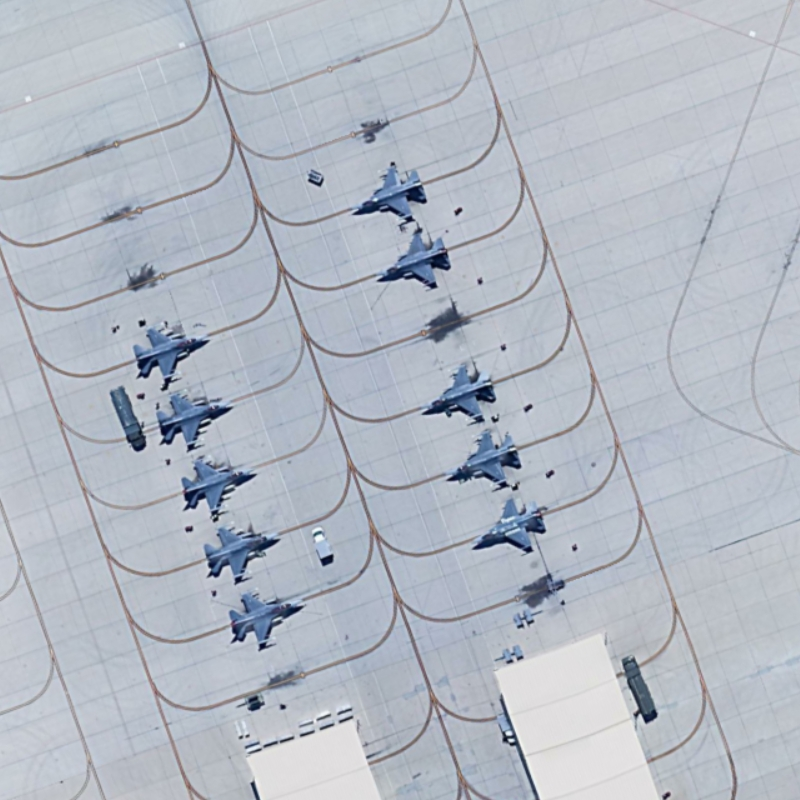A5: (343, 160, 435, 232), (439, 420, 528, 492), (127, 316, 212, 390), (364, 227, 458, 293), (461, 492, 555, 558), (414, 357, 503, 424), (223, 586, 313, 652), (173, 450, 258, 517), (198, 516, 284, 582), (152, 389, 236, 450)
